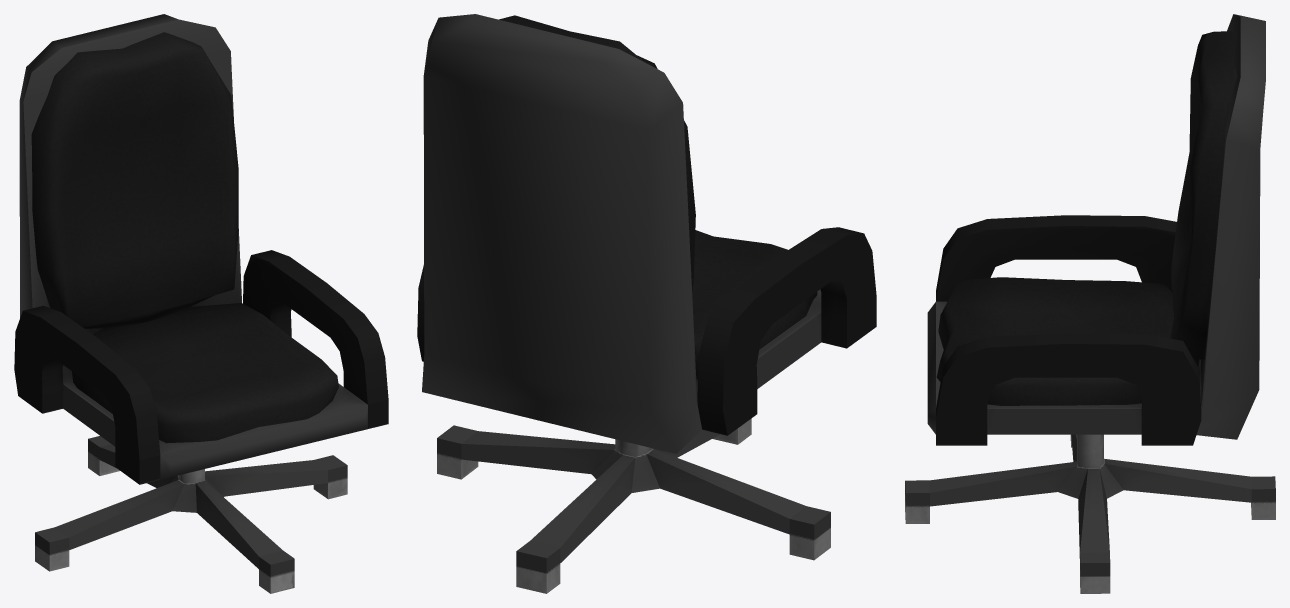
Rendered from Rolly Chair.fbx.
The picture shows the model from 3 angles, left to right: view 1: azimuth 30°, elevation 25°; view 2: azimuth 150°, elevation 25°; view 3: azimuth 270°, elevation 25°; orthographic projection. The views are drawn at different scales.
Parts seen in each view (by area): view 1: RollyChair; view 2: RollyChair; view 3: RollyChair.
Part boxes in pixels (<box>): RollyChair: <box>14,14,388,593</box>; RollyChair: <box>417,14,876,593</box>; RollyChair: <box>905,14,1275,593</box>.
Bounding box in the file's own units: 65.95 × 65.95 × 91.95.
